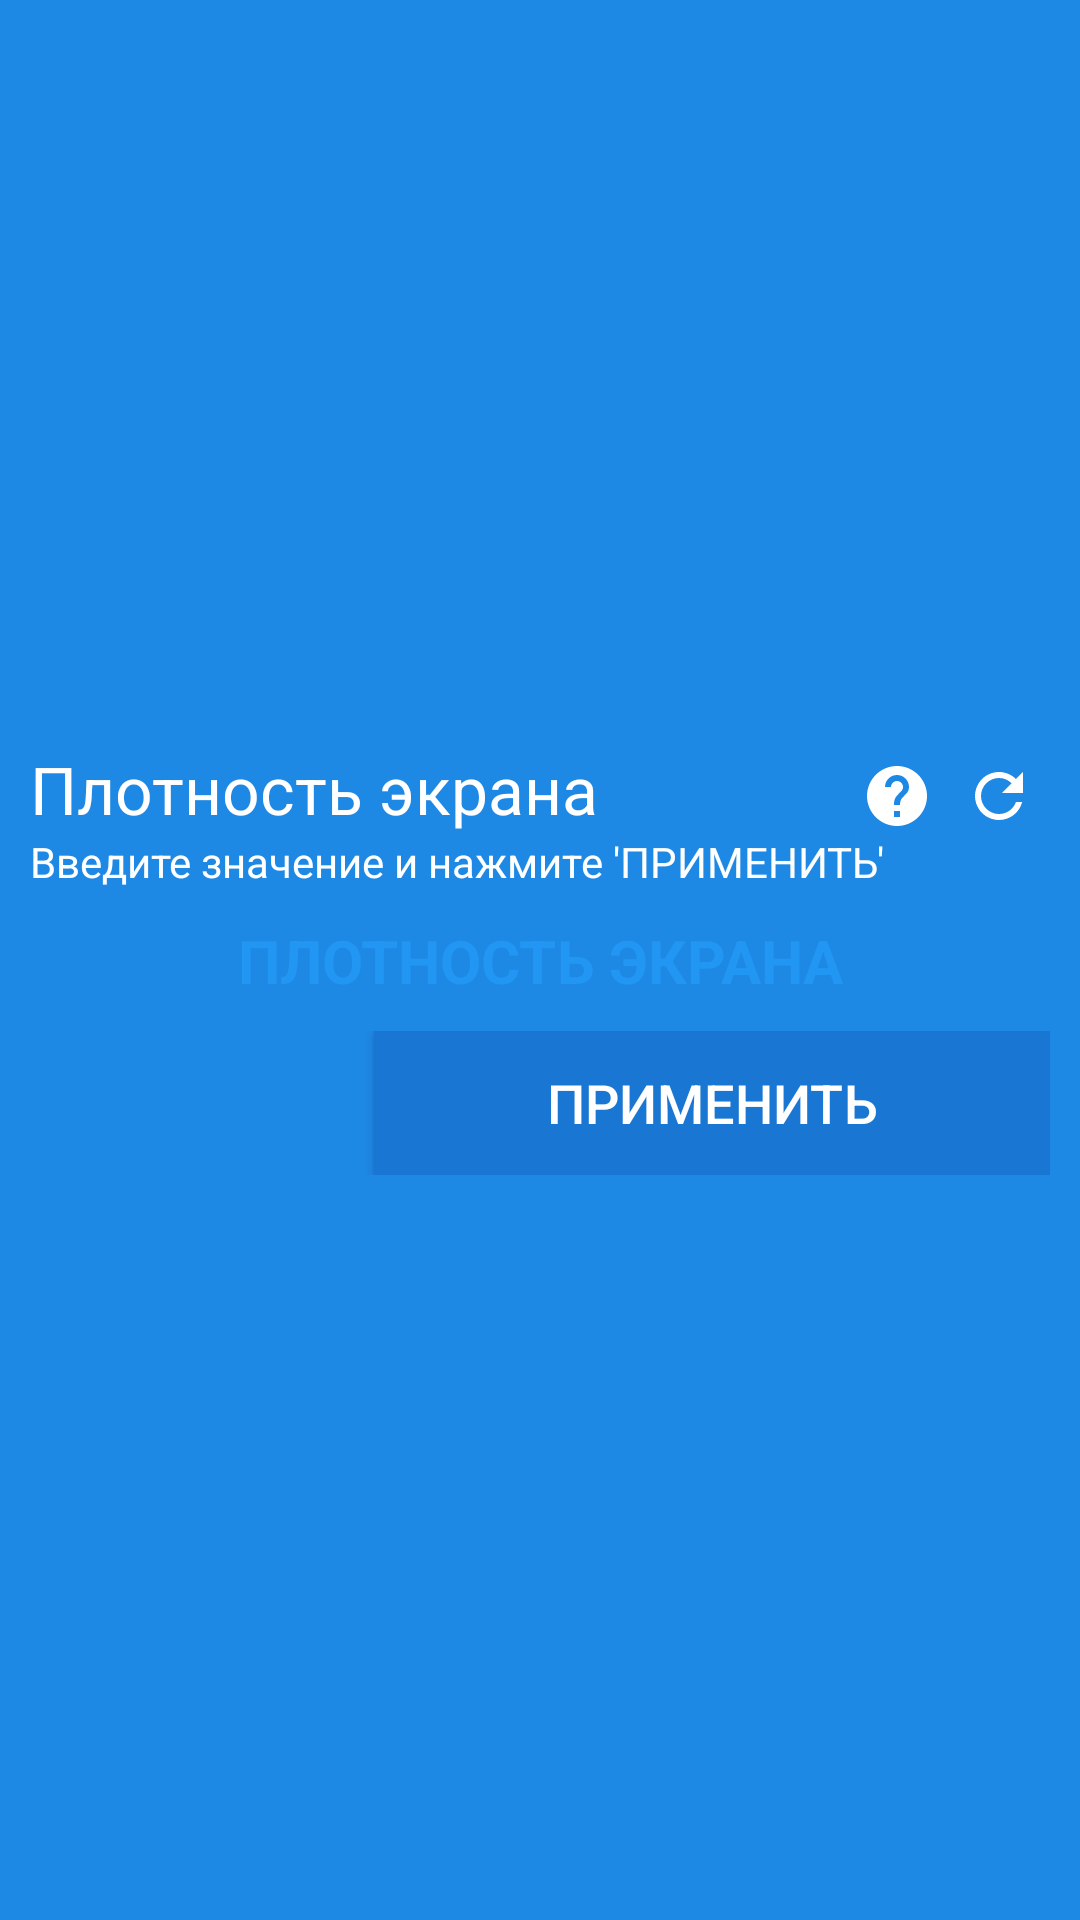

Icon click points for this 1080px×1920px phone screenshot, format point (x, y):
help: point (897, 796)
refresh: point (999, 796)
